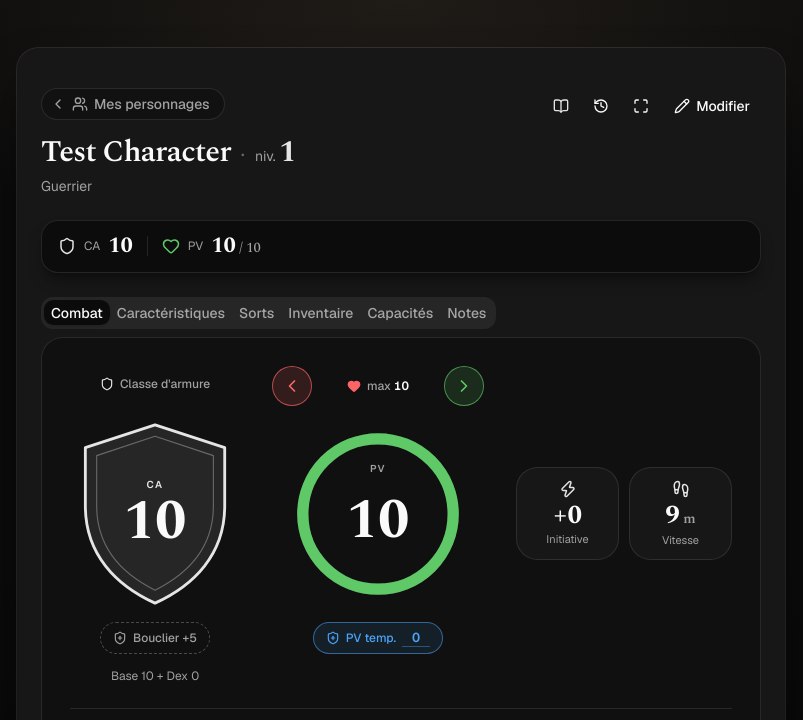
it: Armor class in play mode › toggles a manual armor class effect and shows the computed AC
Expected: the heading "Test Character" is shown, [41, 134, 231, 170]
Expected: the text "Base 10 + Dex 0" is shown, [111, 668, 199, 684]
Click the switch named "bouclier (+5 ca)": (155,638) [100, 622, 210, 654]
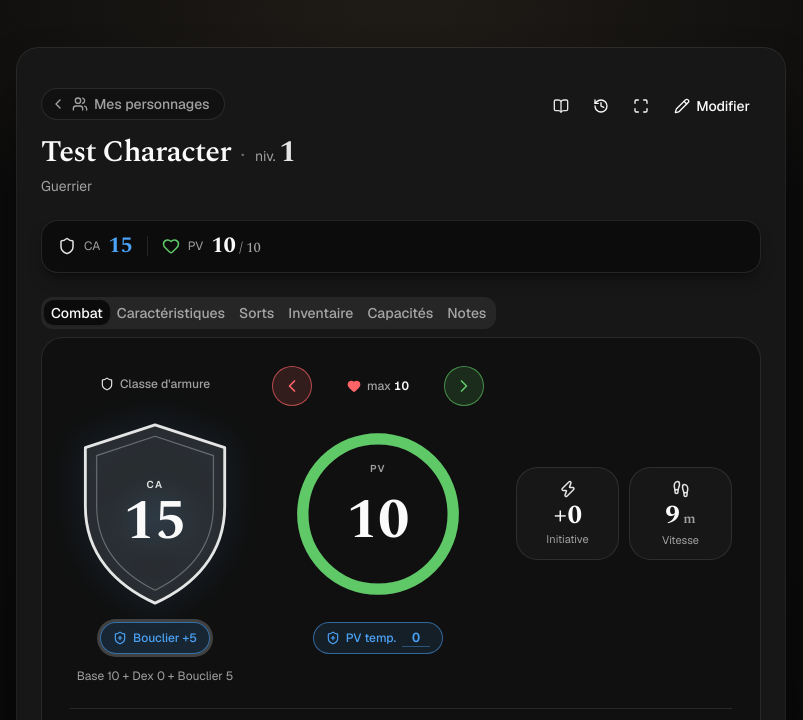
Expected: the text "Base 10 + Dex 0 + Bouclier 5" is shown, [77, 668, 233, 684]
